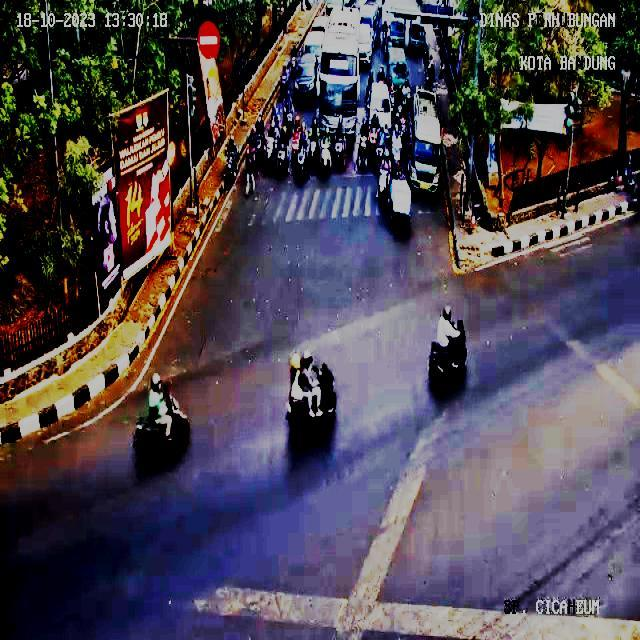bus: (319, 31, 359, 116)
lorry: (410, 88, 441, 191)
motorcyclist: (132, 372, 191, 477), (286, 352, 336, 454), (429, 305, 468, 398)
